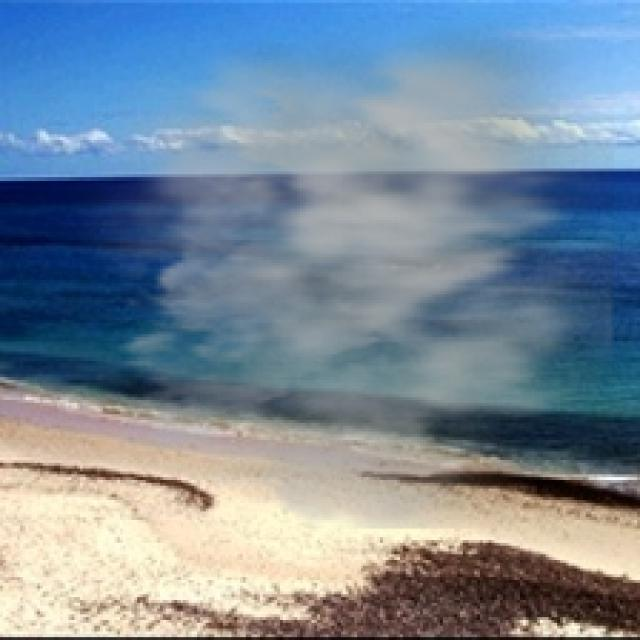smoke: (57, 11, 614, 528)
